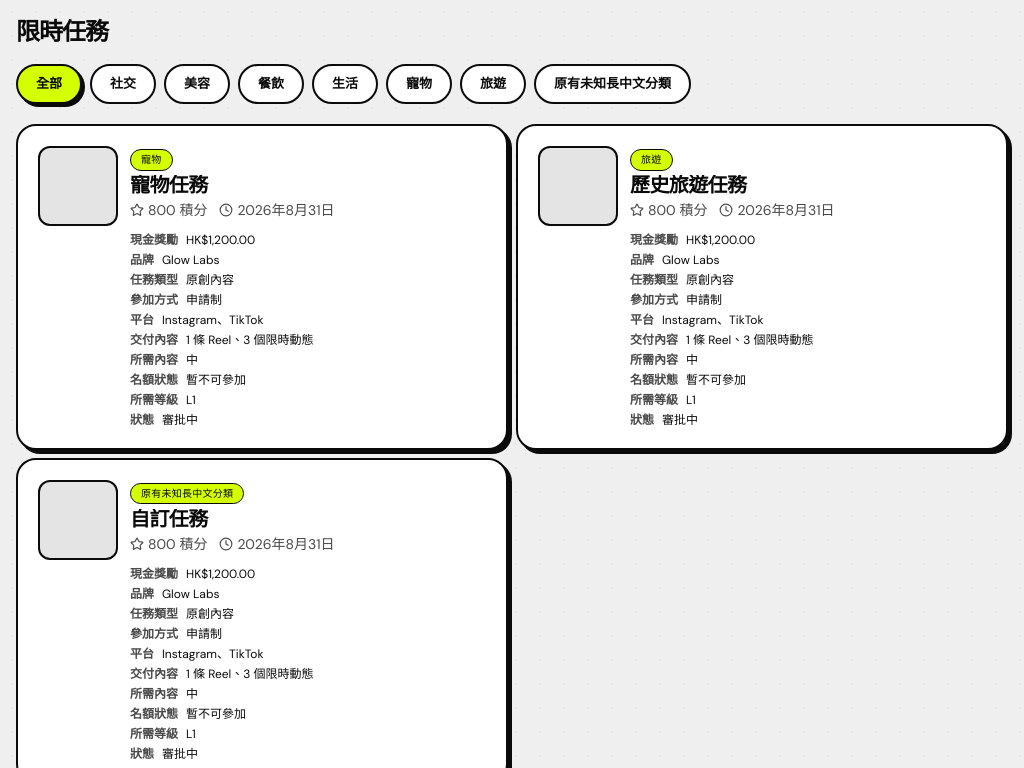
Test: mission discovery › keeps pet, travel aliases and unknown long categories separately filterable
Click the button "寵物" at (419,84), box [386,64,452,104]
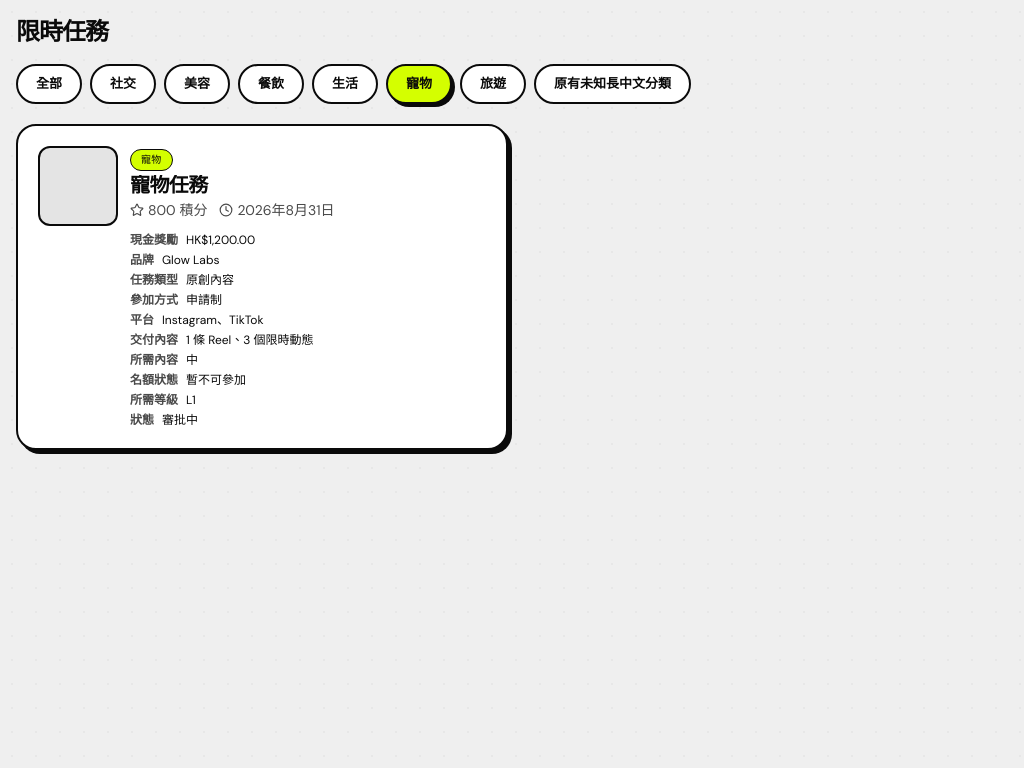
Expected: the link "寵物任務" is shown, [16,124,508,450]
Result: the link "歷史旅遊任務" is gone
Click the button "旅遊" at (493,84), box [460,64,526,104]
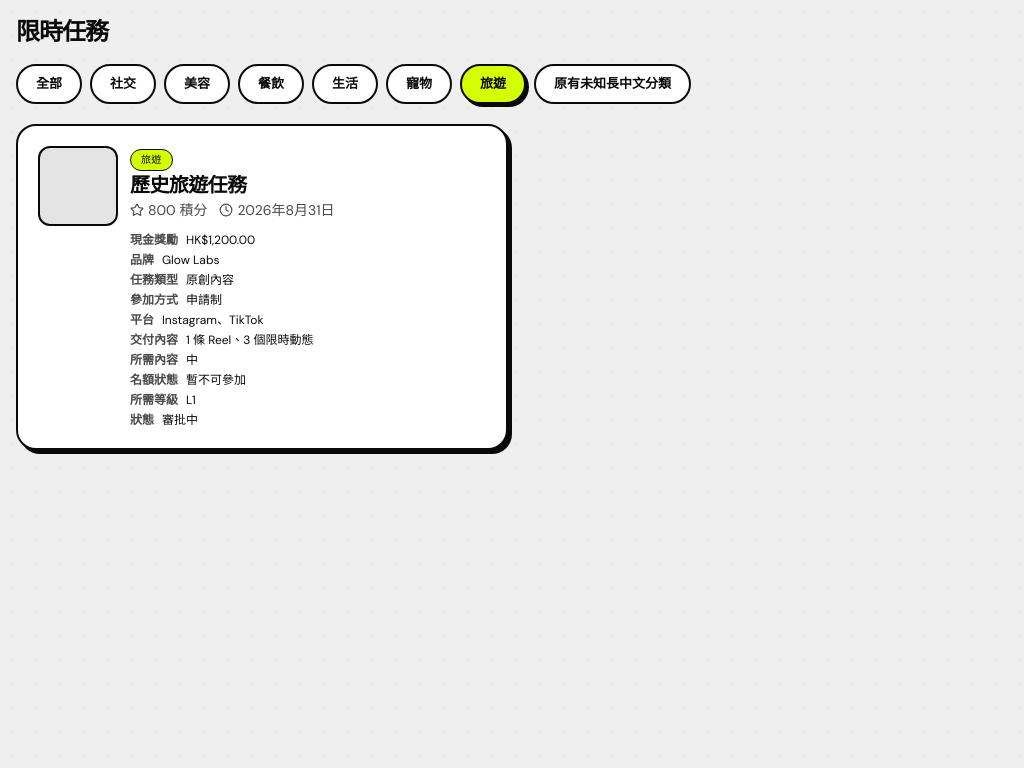
Result: the link "歷史旅遊任務" is shown at [16,124,508,450]
Click the button "原有未知長中文分類" at (613,84), box [534,64,691,104]
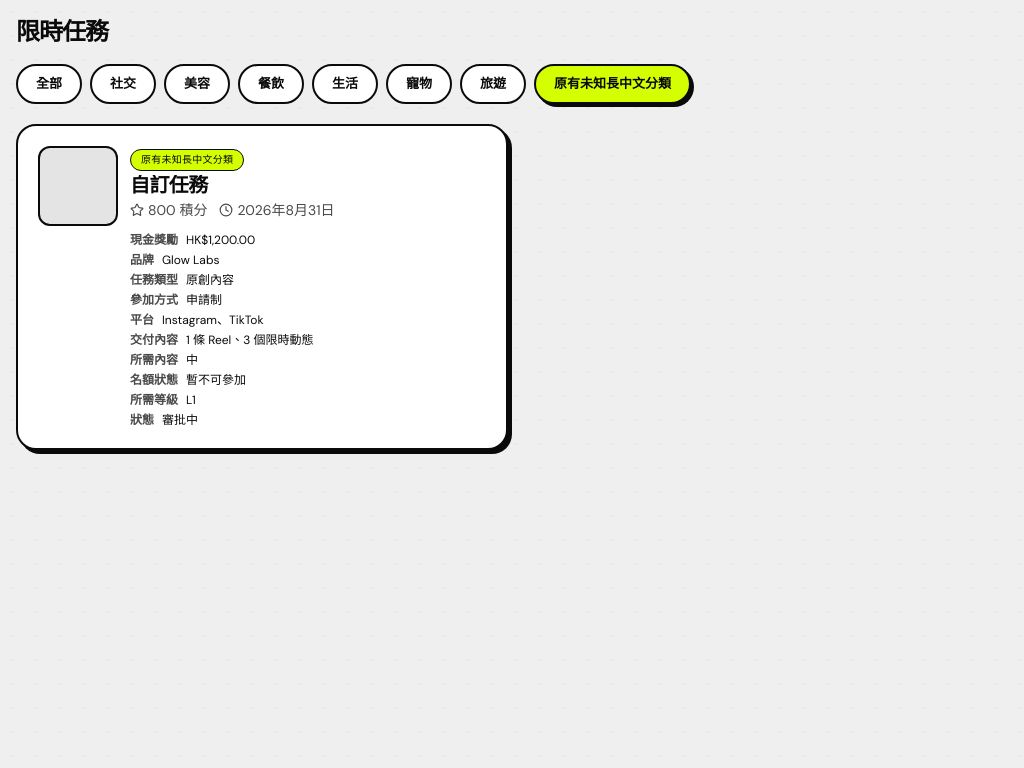
Result: the link "自訂任務" is shown at [16,124,508,450]
